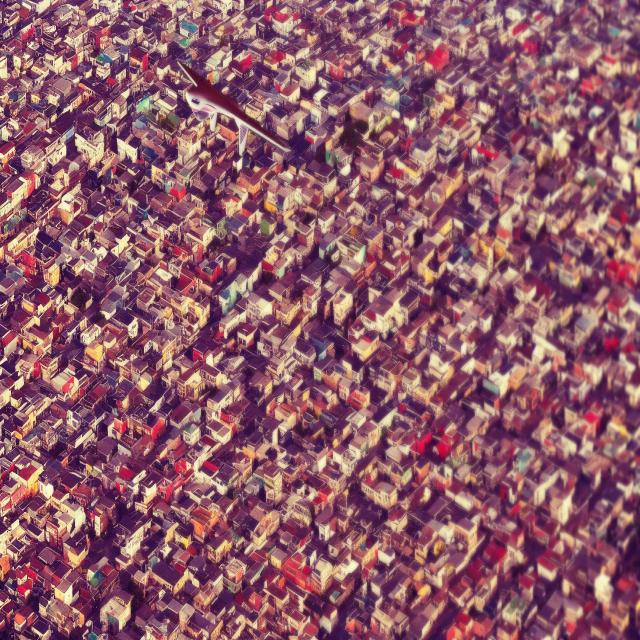airplane: (176, 57, 292, 162)
